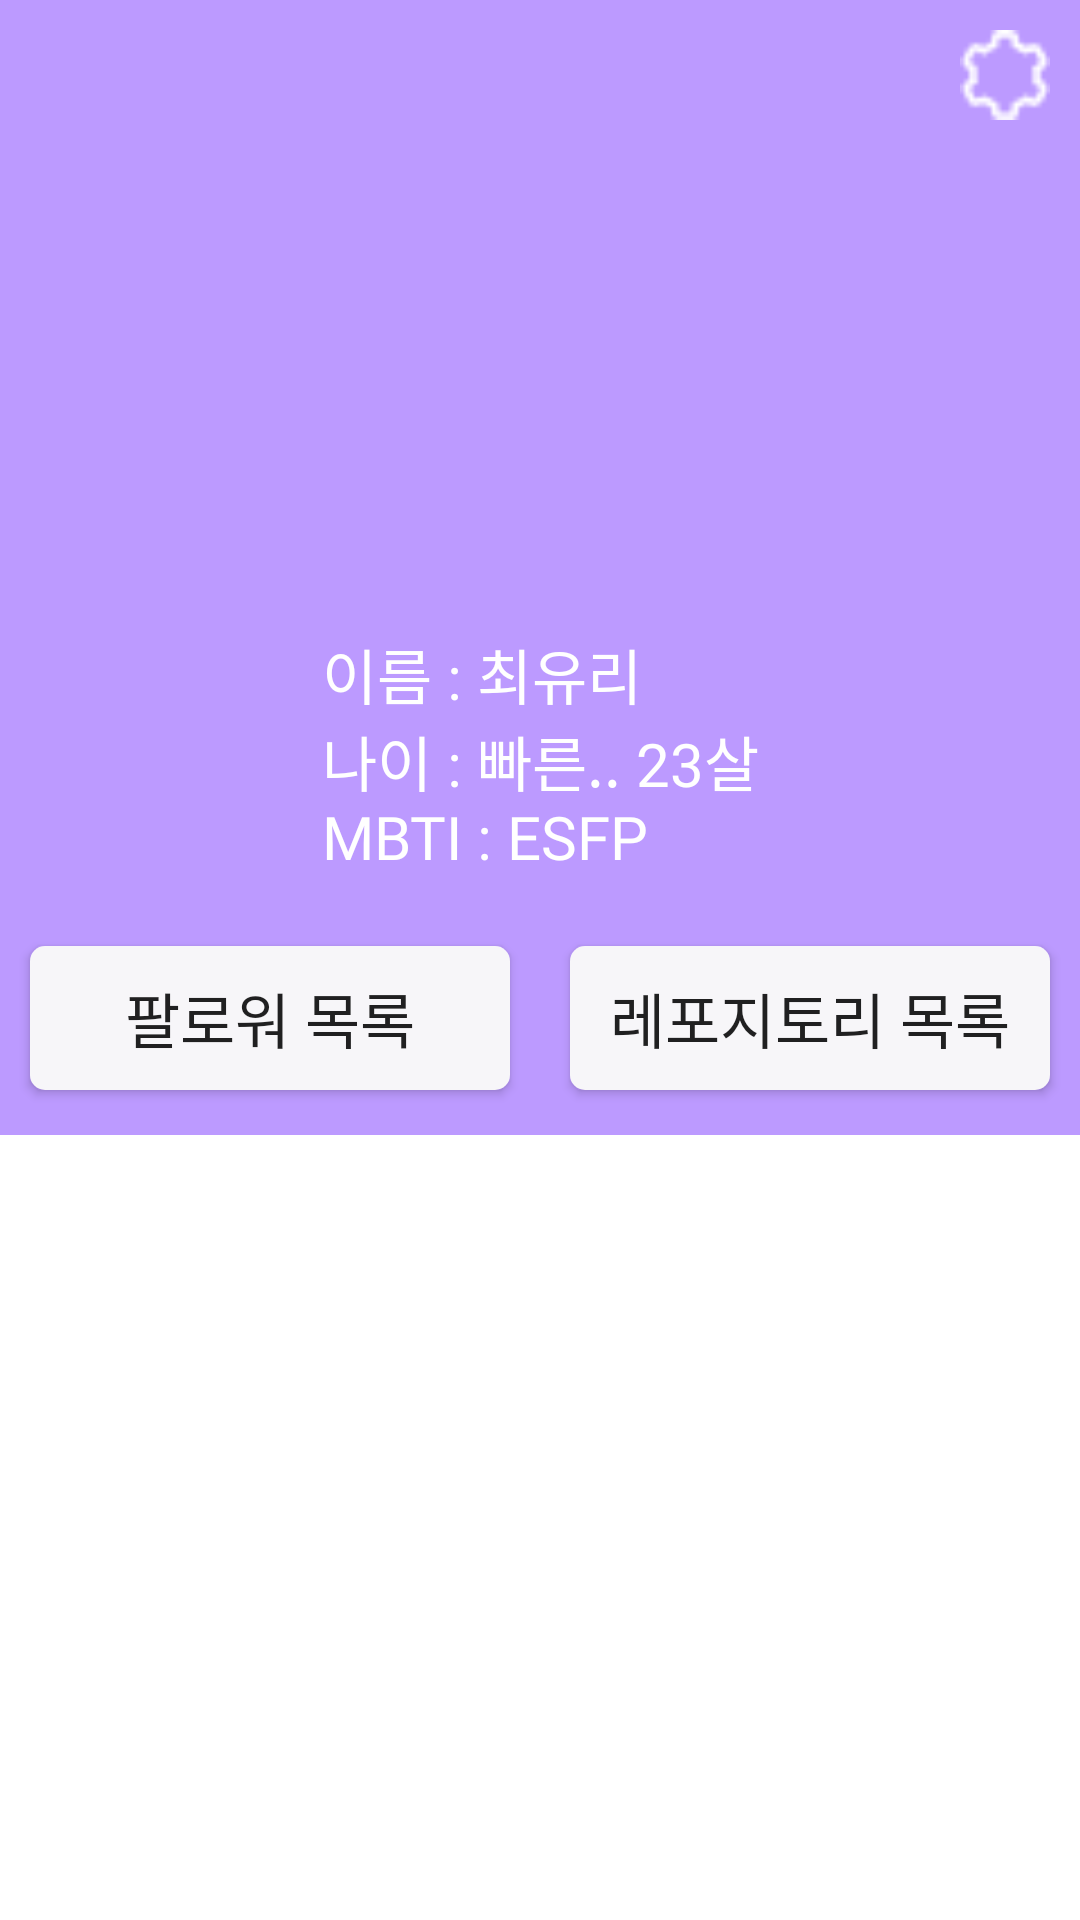

Point at icon controls on the screen. Image size 1080 × 1920, points as (x,y).
setting: (1005,75)
